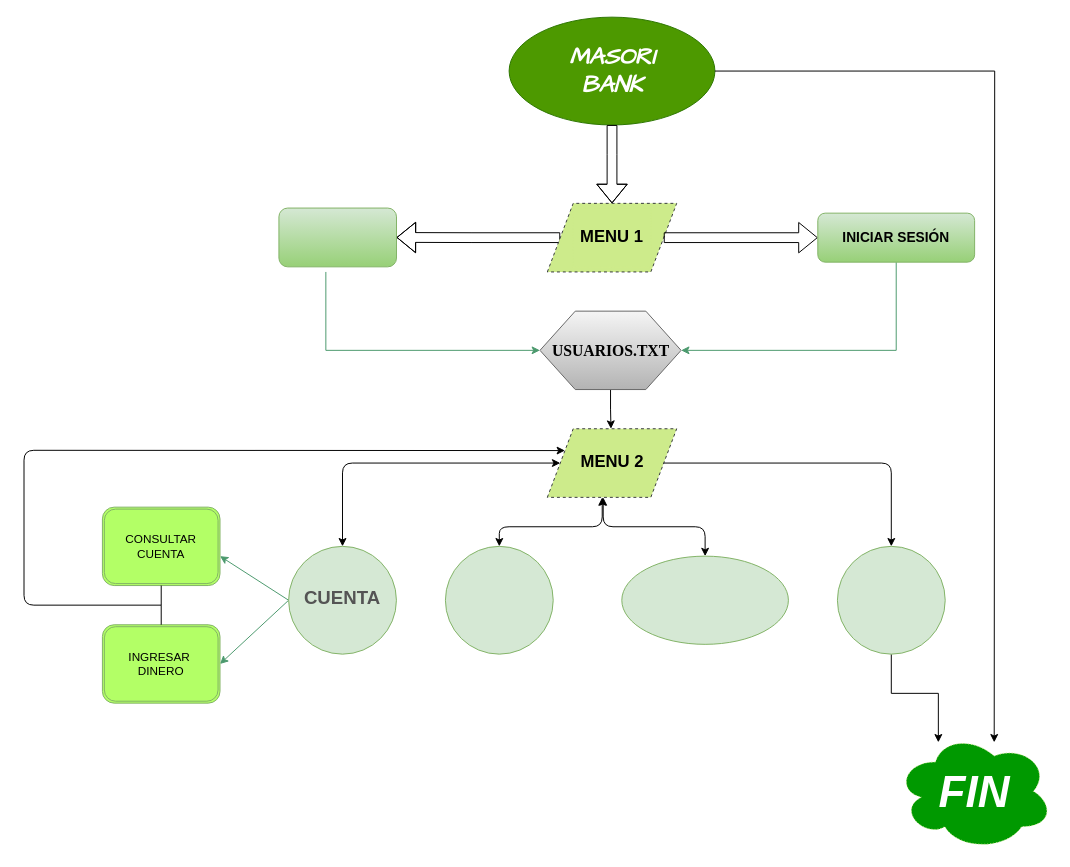
The diagram is 1070 pixels wide and 867 high, and some of its shapes have lost their labels. The centre of each missing label's shape, as x and y in pixels:
"CAJEROS Y OFICINAS" belongs at point 498,599.
"CERRAR APLICACION" belongs at point 890,599.
"REGISTRARSE" belongs at point 337,237.
"TRASFERENCIAS" belongs at point 704,599.
